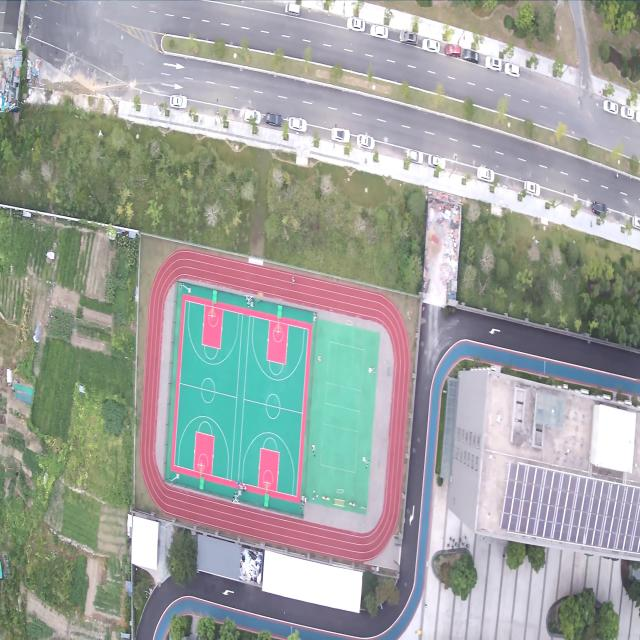drone: (404, 309, 412, 320)
